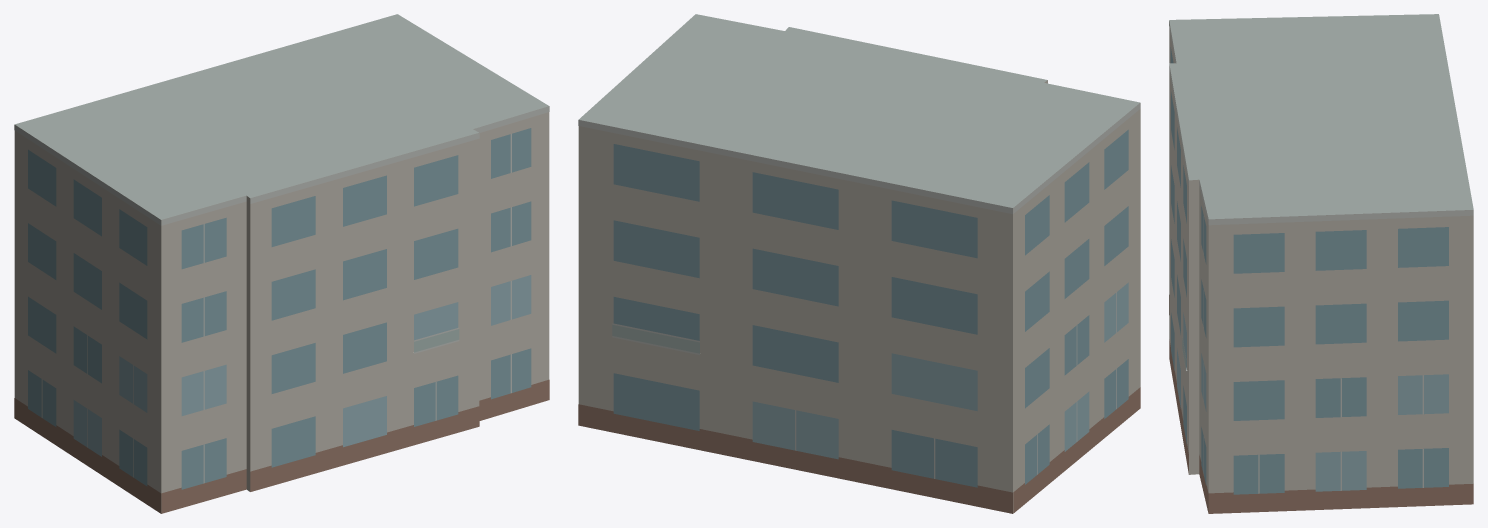
The model's file is survey-upis-32913612.glb.
3 views of the same model, side by side, from view 1: azimuth 30°, elevation 25°; view 2: azimuth 150°, elevation 25°; view 3: azimuth 270°, elevation 25° (orthographic). The views are drawn at different scales.
Parts seen in each view (by area): view 1: survey-upis-32913612.tmp; view 2: survey-upis-32913612.tmp; view 3: survey-upis-32913612.tmp.
Boxes of the visible parts, x1,y1,x2,y2 form: survey-upis-32913612.tmp: (14,14,549,513); survey-upis-32913612.tmp: (578,14,1140,513); survey-upis-32913612.tmp: (1169,14,1473,513).
Size of the model in its own units: 18.25 by 12.2 by 11.45.
